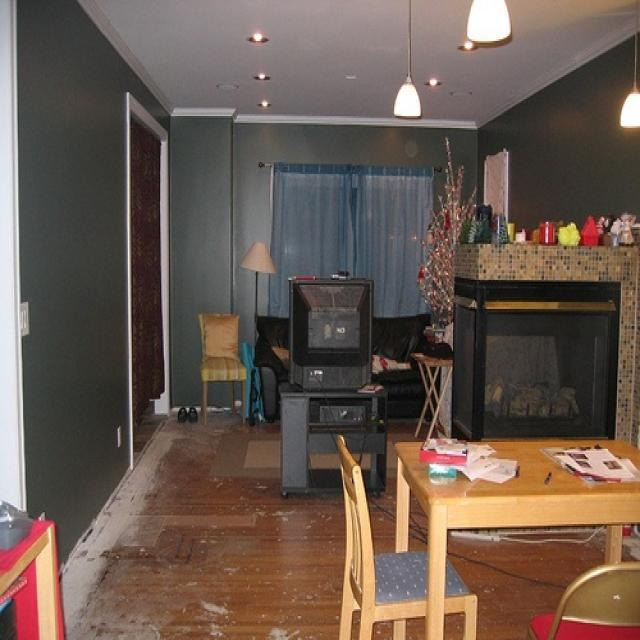chair: (334, 435, 480, 638), (528, 560, 638, 636), (200, 313, 247, 422)
diningtable: (389, 438, 639, 635)
sofa: (252, 313, 439, 422)
tvmonitor: (286, 276, 372, 391)
